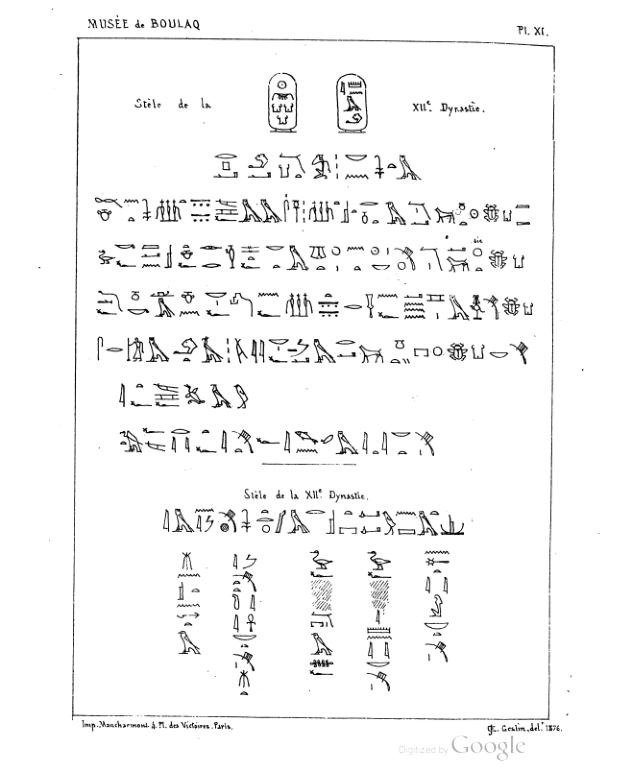circle: (330, 68, 371, 136), (263, 69, 303, 138)
